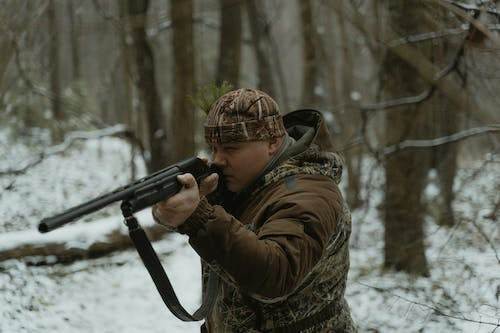gun: (36, 154, 224, 235)
